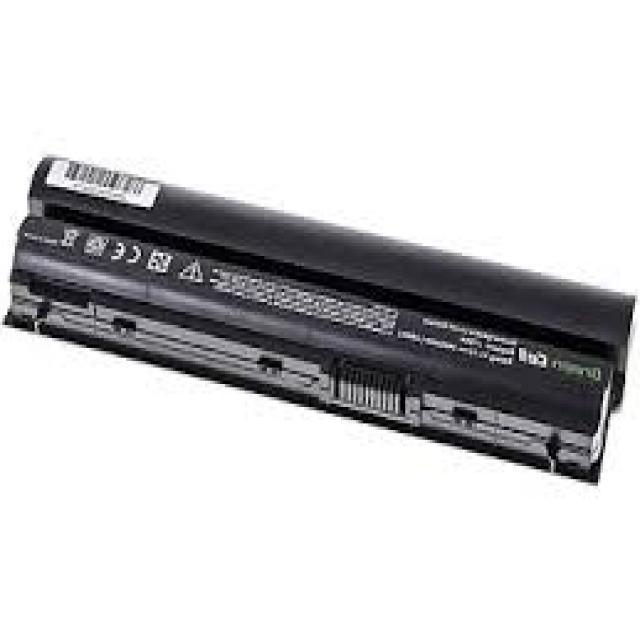battery: (5, 138, 628, 486)
